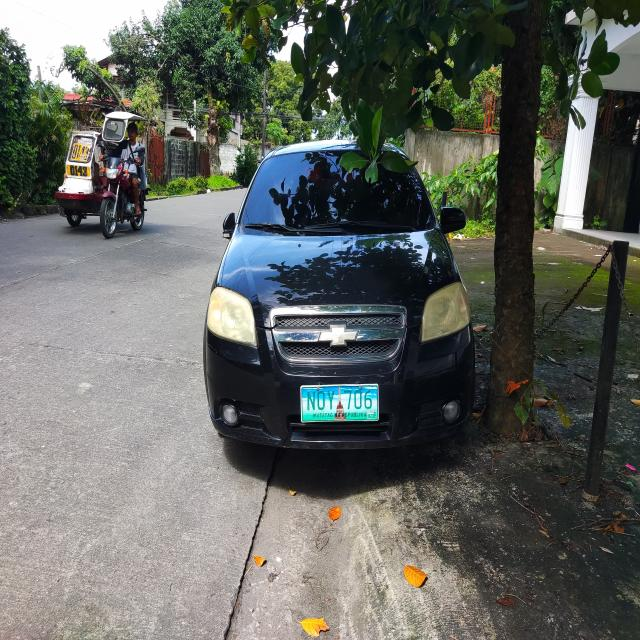plate: (299, 383, 380, 423)
